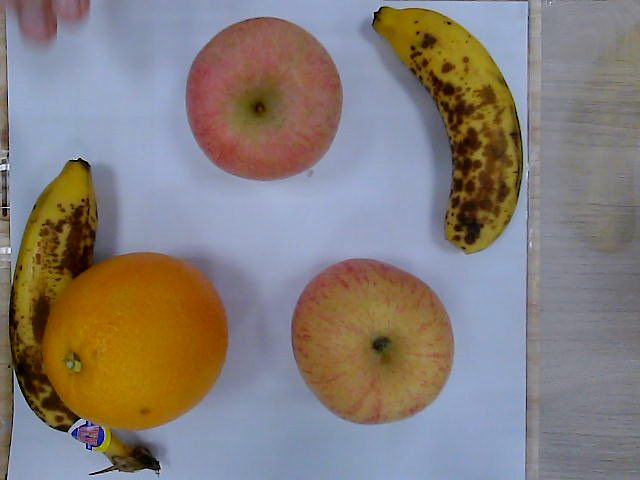fresh_apple: (292, 260, 457, 426), (188, 17, 341, 183)
fresh_orange: (42, 252, 230, 431)
rotten_banana: (11, 163, 161, 473), (374, 6, 524, 253)
